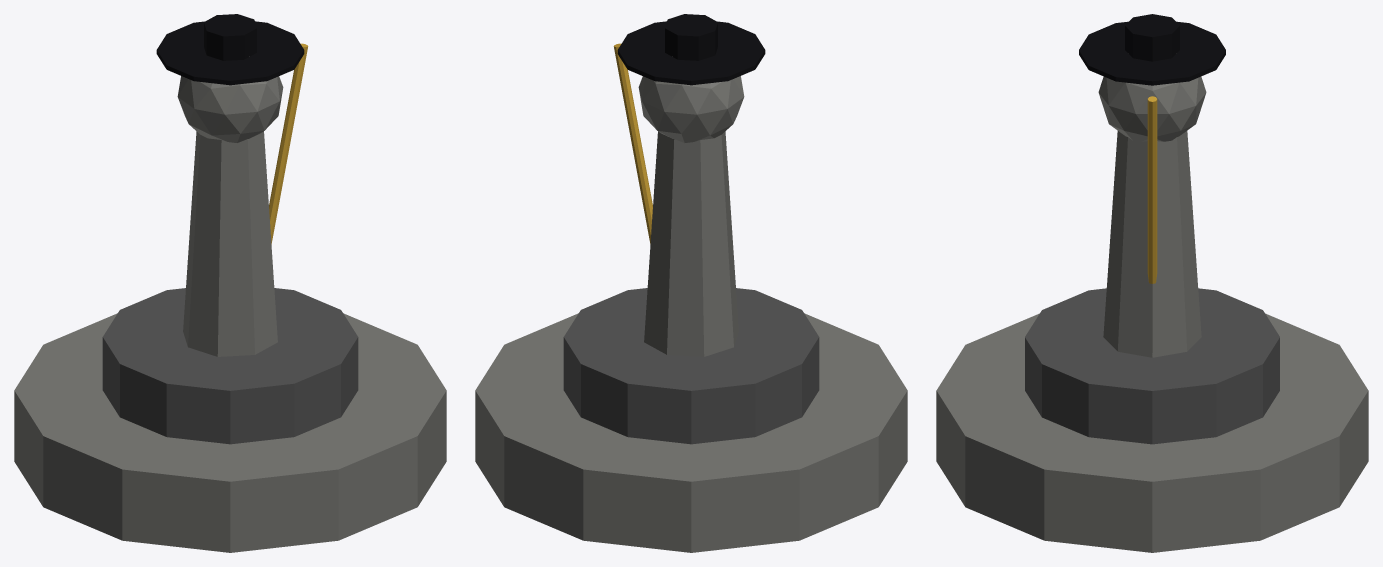
The model's file is SM_GZ_statue.fbx.
The picture shows the model from 3 angles, left to right: view 1: azimuth 30°, elevation 25°; view 2: azimuth 150°, elevation 25°; view 3: azimuth 270°, elevation 25°; orthographic projection.
Parts seen in each view (by area): view 1: SM_GZ_statue; view 2: SM_GZ_statue; view 3: SM_GZ_statue.
Boxes of the visible parts, box(x1,y1,x2,y2) form: SM_GZ_statue: box(14, 14, 446, 552); SM_GZ_statue: box(475, 14, 907, 552); SM_GZ_statue: box(936, 14, 1368, 552).
Bounding box in the file's own units: 440 × 490 × 440.
